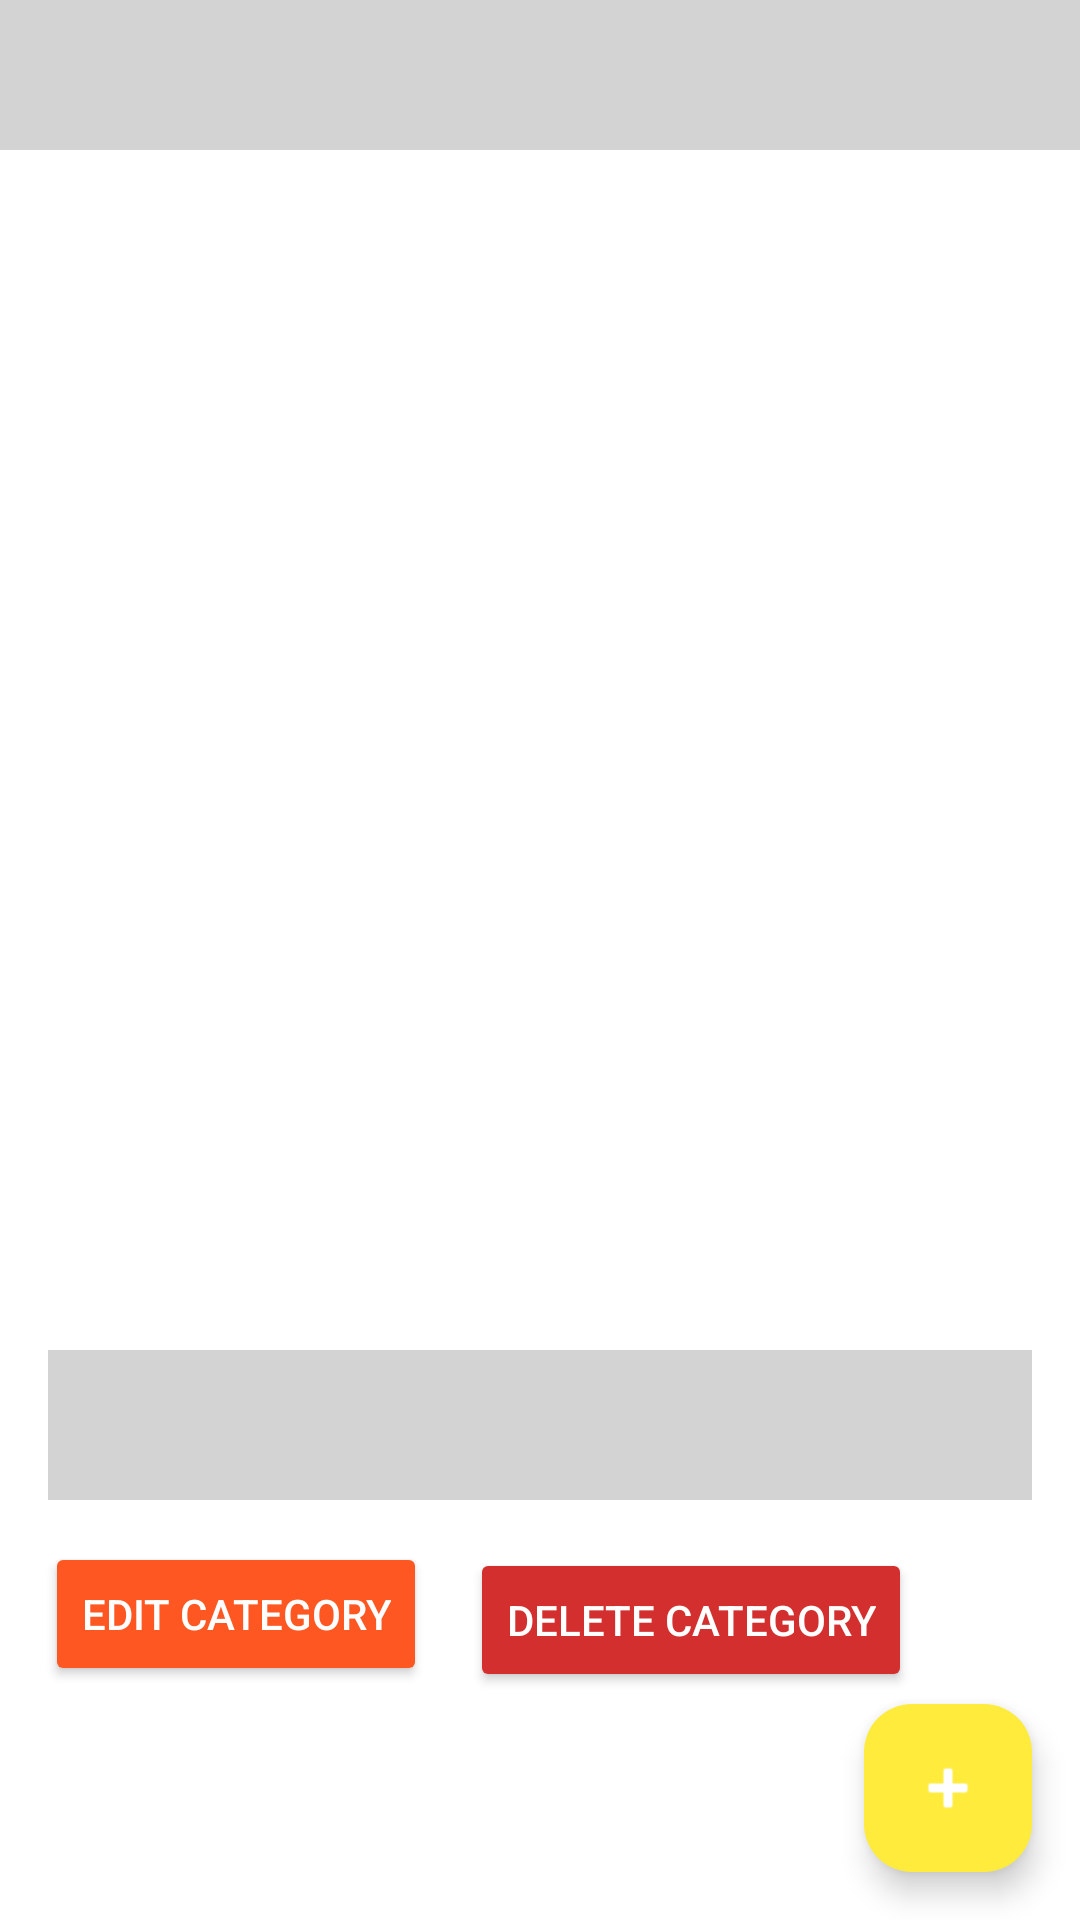

Icons on this 1080 x 1920 Android screen, each with the point to tap as point (x, y):
Add Movie: point (948, 1788)
